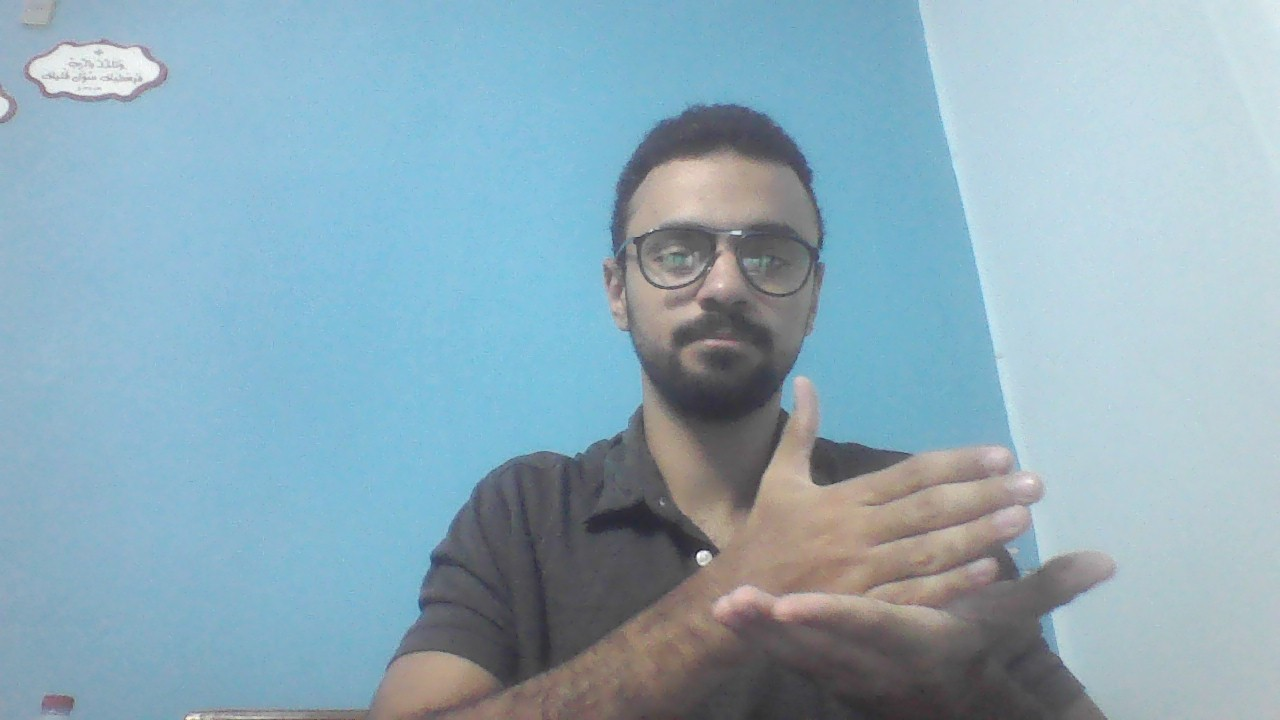stop: (696, 379, 1122, 692)
